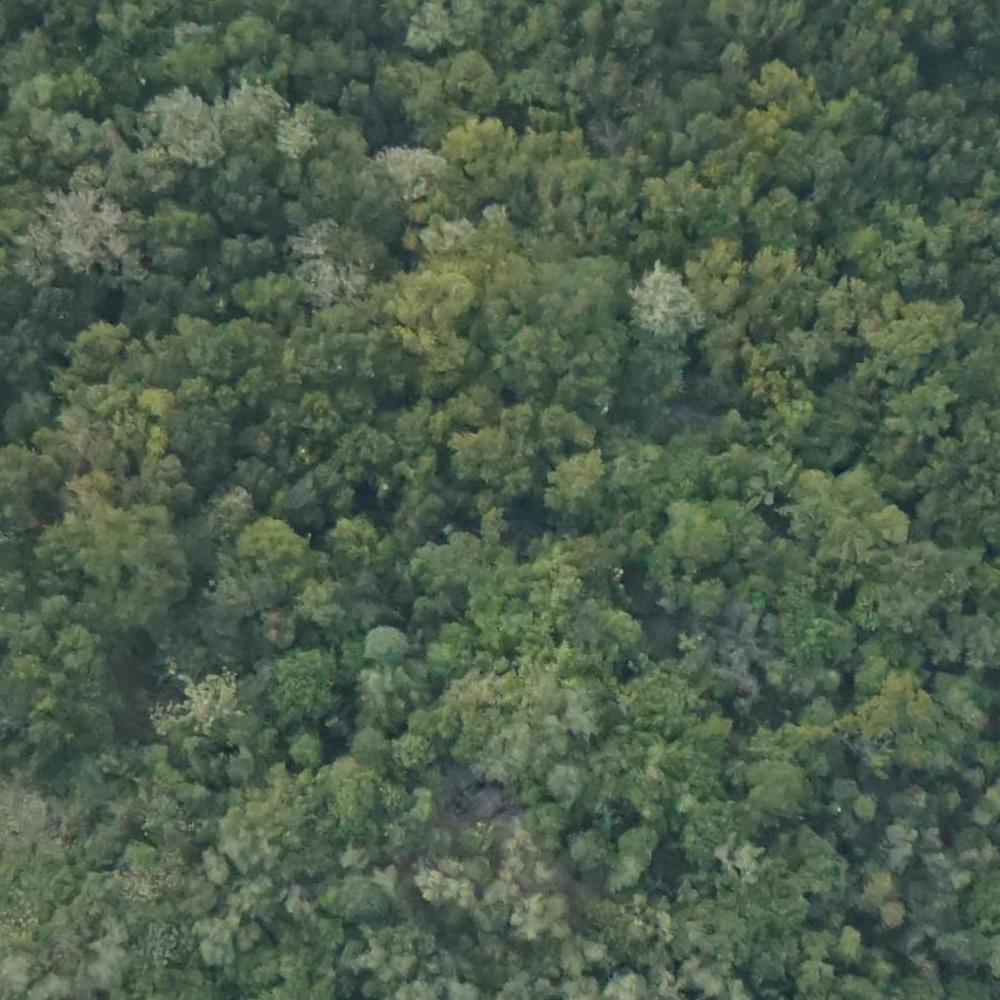tree: (226, 508, 303, 586), (39, 189, 119, 263), (631, 262, 708, 336), (380, 142, 459, 213), (734, 757, 808, 828), (289, 224, 370, 287), (544, 449, 607, 524), (159, 94, 231, 159), (268, 645, 335, 710), (447, 117, 509, 178), (672, 493, 722, 567), (356, 619, 415, 675), (62, 316, 124, 368), (296, 582, 361, 631), (329, 869, 389, 921), (596, 605, 645, 665), (455, 427, 513, 477), (443, 54, 499, 104), (416, 861, 467, 915), (331, 517, 381, 569), (202, 478, 248, 534), (279, 109, 329, 159), (231, 84, 287, 128), (539, 756, 589, 805), (396, 732, 441, 786), (723, 838, 769, 888), (753, 187, 798, 238), (448, 382, 491, 430), (679, 75, 719, 119), (567, 829, 607, 872), (200, 915, 234, 964), (621, 828, 668, 861), (257, 607, 293, 649), (286, 731, 326, 766), (746, 106, 781, 145), (474, 507, 510, 543), (756, 62, 791, 94), (850, 791, 879, 825), (836, 925, 866, 956), (877, 898, 907, 928), (829, 772, 858, 802)
